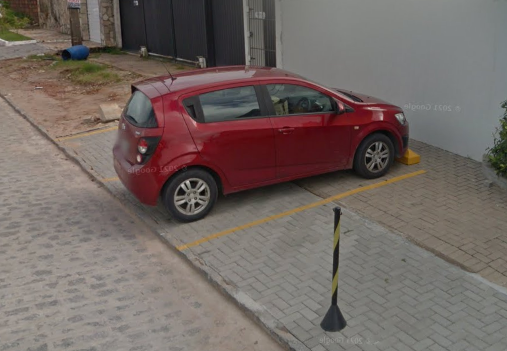car: (110, 58, 410, 224)
